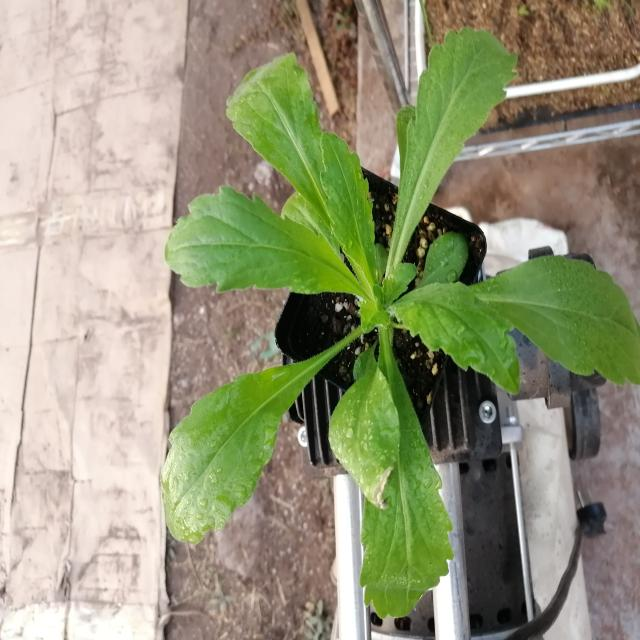horseweed: (182, 38, 609, 568)
